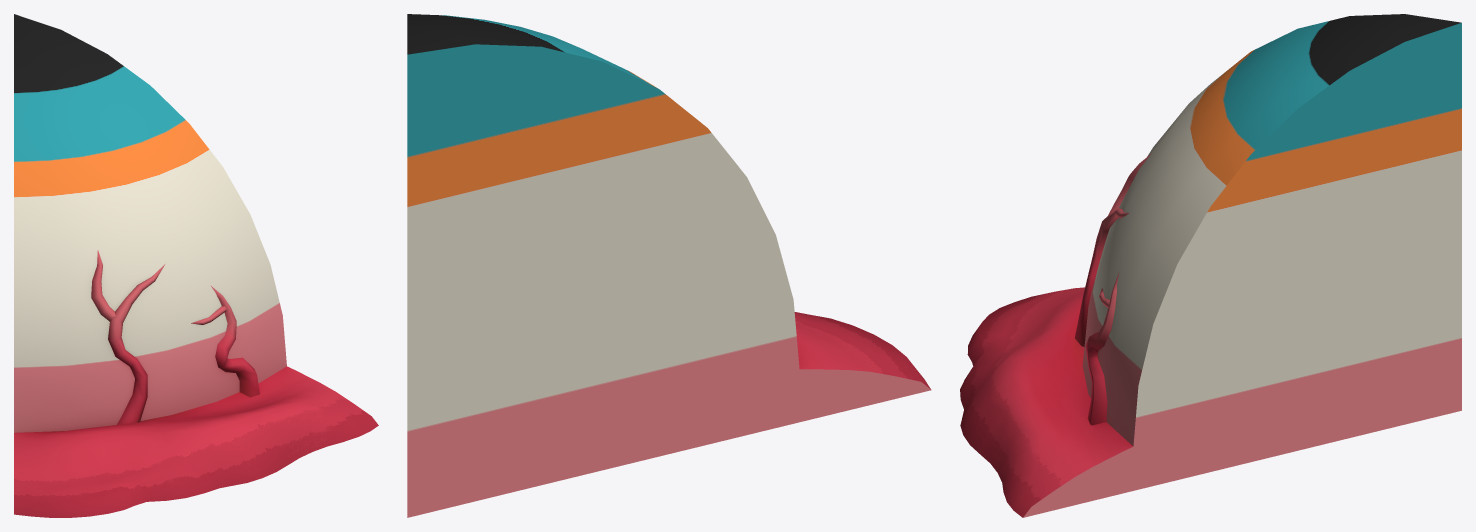
File: cake_73.FBX
3 renders of one model, left to right at view 1: azimuth 30°, elevation 25°; view 2: azimuth 150°, elevation 25°; view 3: azimuth 270°, elevation 25°, orthographic. The views are drawn at different scales.
Visible parts, largest first — view 1: cake_73; view 2: cake_73; view 3: cake_73.
Part boxes in pixels (left/top/right/bottom): cake_73: left=14, top=14, right=378, bottom=517; cake_73: left=407, top=14, right=931, bottom=517; cake_73: left=960, top=14, right=1461, bottom=517.
Size of the model in its own units: 5.1 by 4.31 by 5.05.
